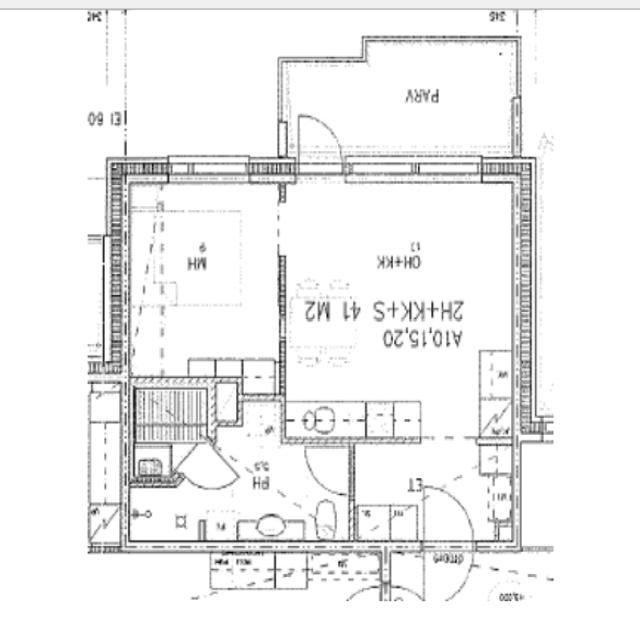door: (178, 440, 239, 508), (423, 540, 474, 608), (297, 108, 342, 184), (423, 484, 474, 551), (308, 450, 354, 495)
